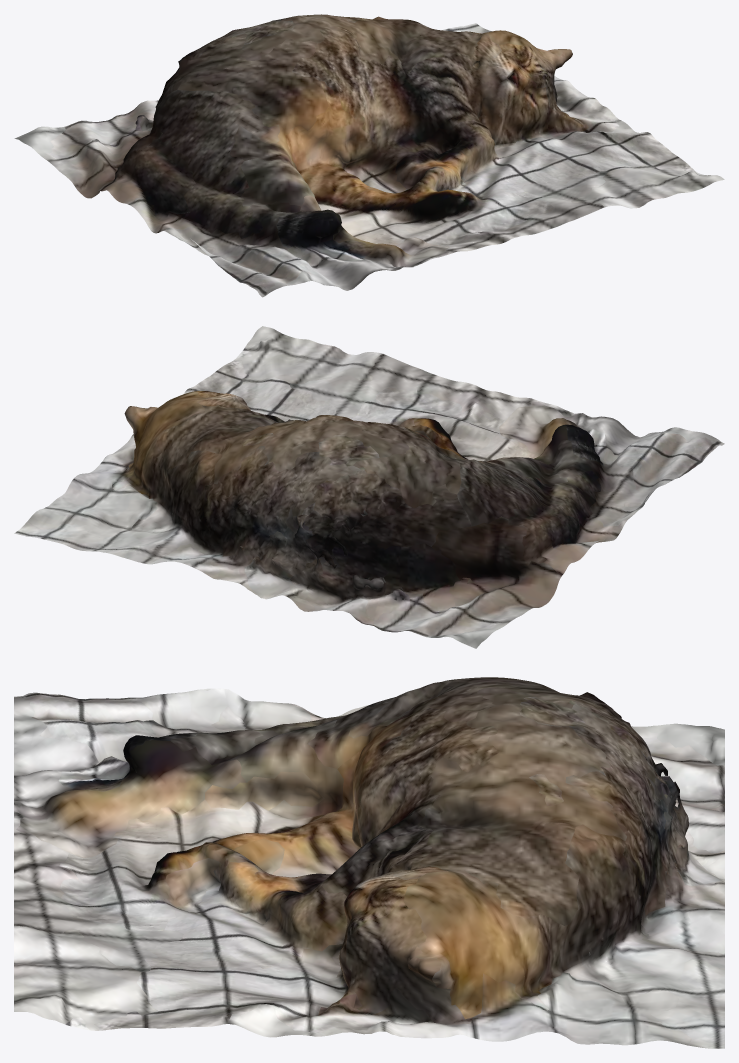
Rendered from cat.glb.
3 renders of one model, top to bottom at view 1: azimuth 30°, elevation 25°; view 2: azimuth 150°, elevation 25°; view 3: azimuth 270°, elevation 25°, orthographic. The views are drawn at different scales.
Visible parts, largest first — view 1: Object_4; view 2: Object_4; view 3: Object_4.
Part boxes in pixels (x1,y1,x2,y2): Object_4: (14,14,724,297); Object_4: (14,326,724,648); Object_4: (14,677,724,1048).
Bounding box in the file's own units: 0.5366 × 0.1328 × 0.4997.
1 material, 1 textured.
